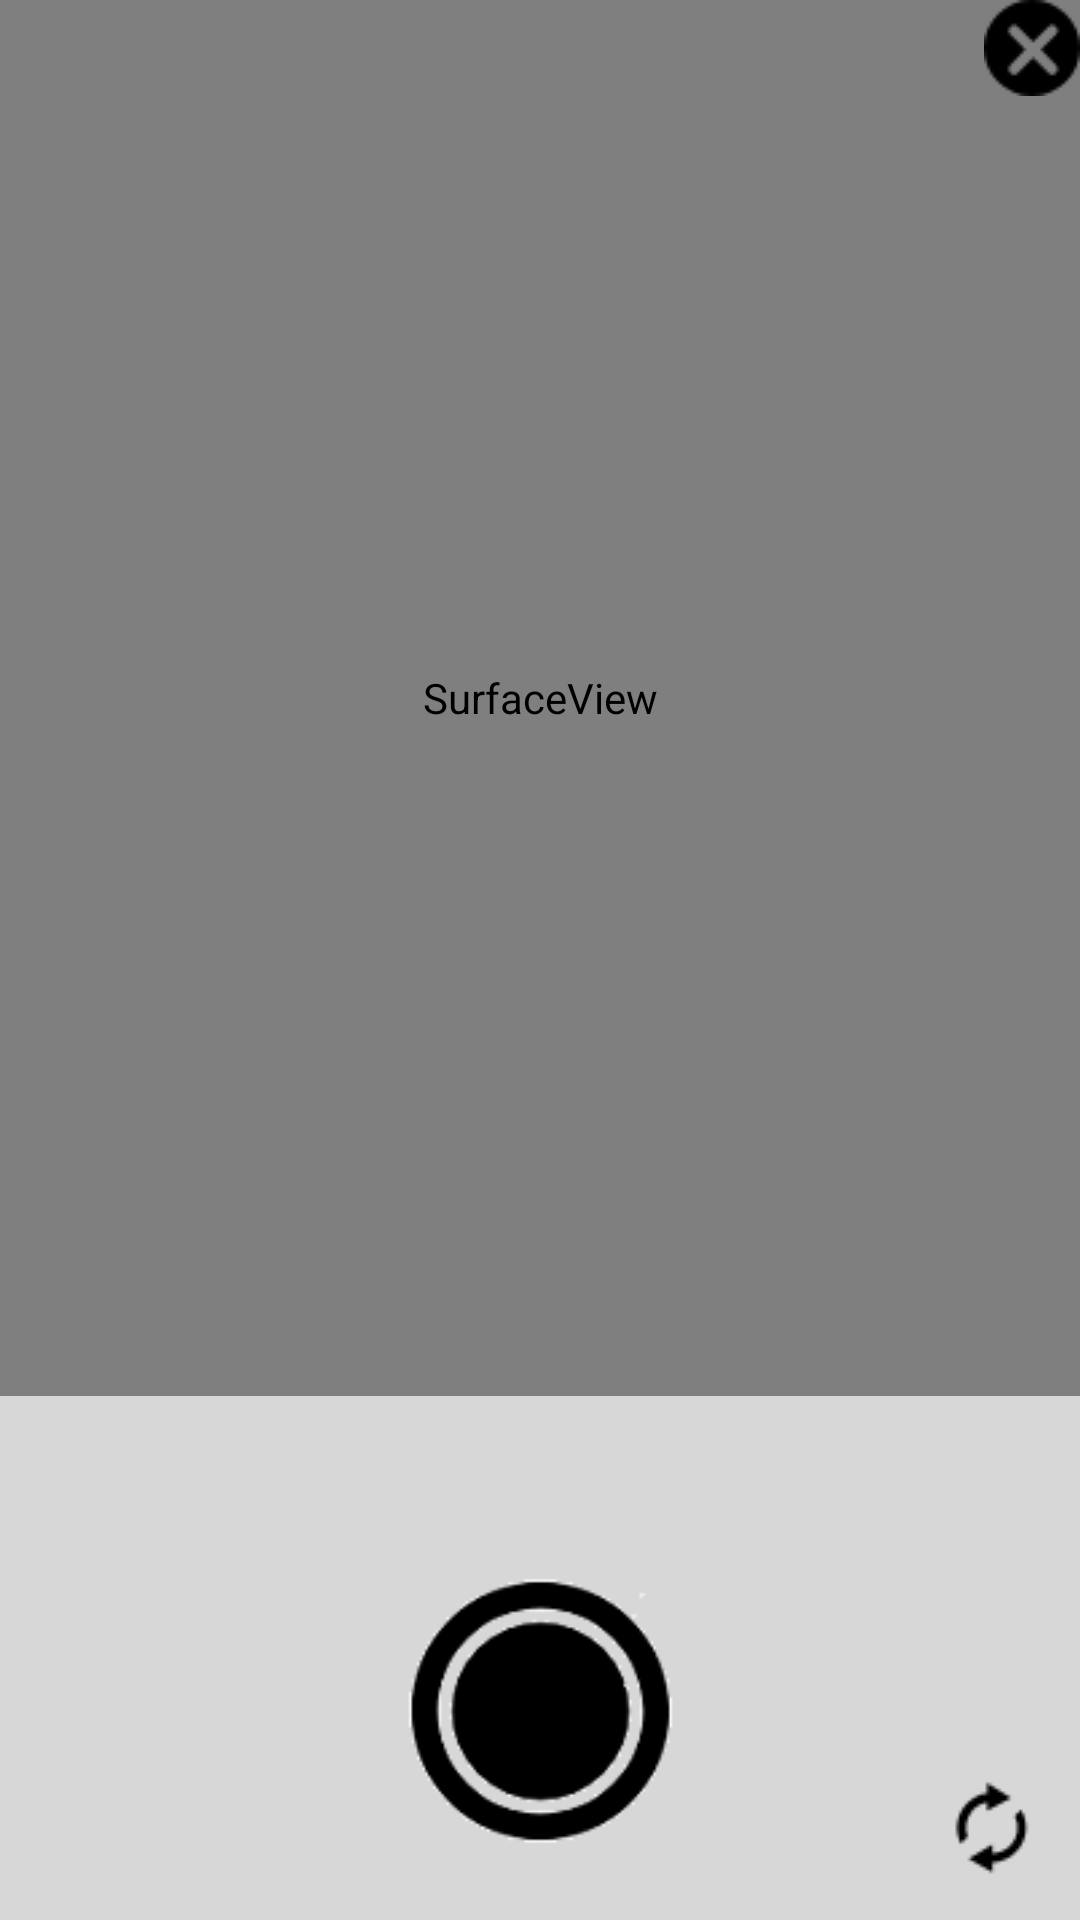

Where icons sit on this 1080 × 1920 app screen, as [x1=x1, y1=y1, x2=x2, y2=y2]:
camera: [x1=409, y1=1580, x2=671, y2=1842]
cancel: [x1=984, y1=0, x2=1080, y2=96]
